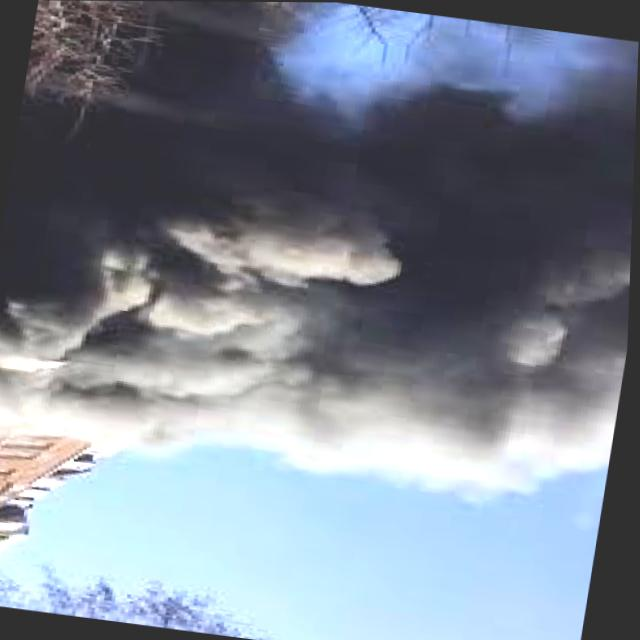Smoke: (0, 9, 640, 522)
